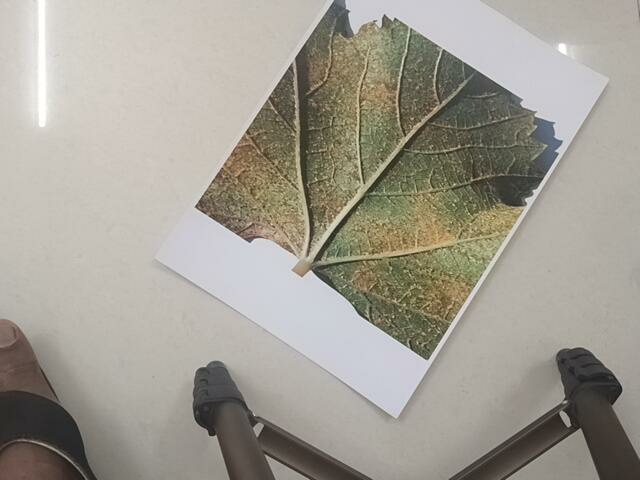Grape_Rust_Fungus: (198, 18, 563, 357)
